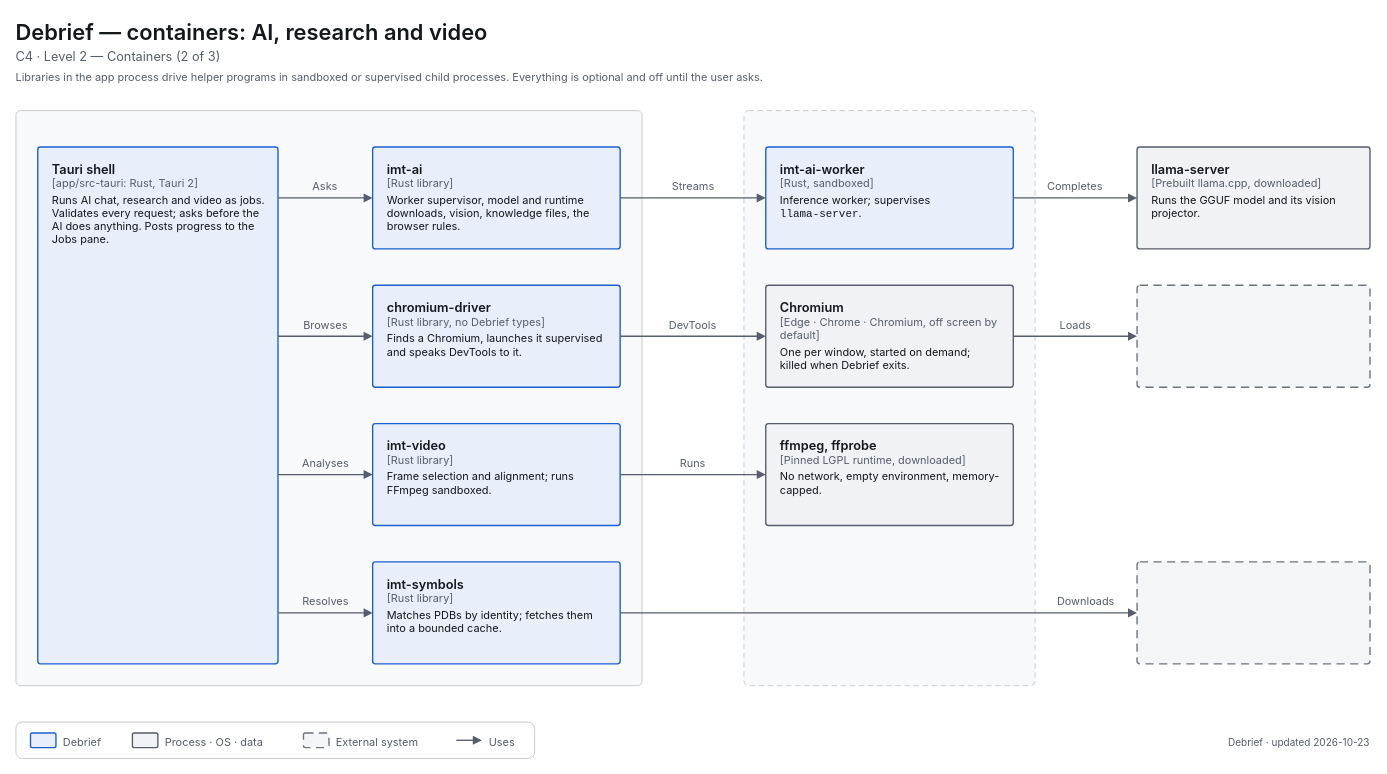
Some shapes in this 1387 by 774 pixel diagram are drawn without their labels. The shapes that lost their labels are listed below. From the top down, each one's box as (x1, y1, x2, y2) in pixels, then its label:
(1136, 284, 1370, 387): Web sites [Any host the user allows] Pages read for research or Agent mode.
(15, 110, 642, 686): App process [Tauri 2]
(743, 110, 1035, 686): Child processes [sandboxed or supervised]
(1136, 561, 1370, 664): Symbol servers [Opt-in, off by default] PDB files for crash dumps.
